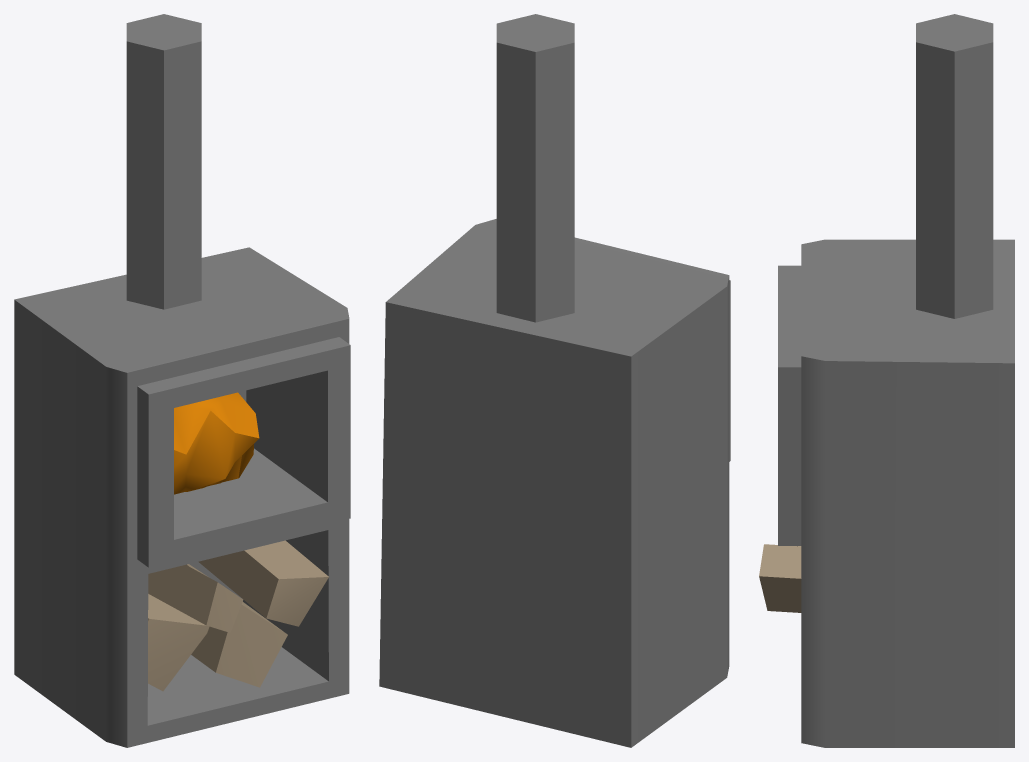
File: Kachel.fbx
The picture shows the model from 3 angles, left to right: view 1: azimuth 30°, elevation 25°; view 2: azimuth 150°, elevation 25°; view 3: azimuth 270°, elevation 25°; orthographic projection. The views are drawn at different scales.
Parts seen in each view (by area): view 1: polySurface1, pCylinder1, pCube3, pCylinder5, pCylinder3, pCylinder4, pCylinder2; view 2: polySurface1, pCylinder1; view 3: polySurface1, pCylinder1, pCylinder5.
Part boxes in pixels (x1,y1,x2,y2): polySurface1: [14, 247, 350, 747]; pCylinder1: [126, 14, 201, 309]; pCube3: [174, 392, 259, 494]; pCylinder5: [198, 540, 328, 626]; pCylinder3: [186, 564, 287, 687]; pCylinder4: [148, 565, 243, 632]; pCylinder2: [148, 594, 209, 691]; polySurface1: [379, 219, 730, 747]; pCylinder1: [496, 14, 574, 322]; polySurface1: [778, 239, 1014, 747]; pCylinder1: [916, 14, 993, 318]; pCylinder5: [759, 544, 801, 612].
Bounding box in the file's own units: 100 × 251 × 89.01.
